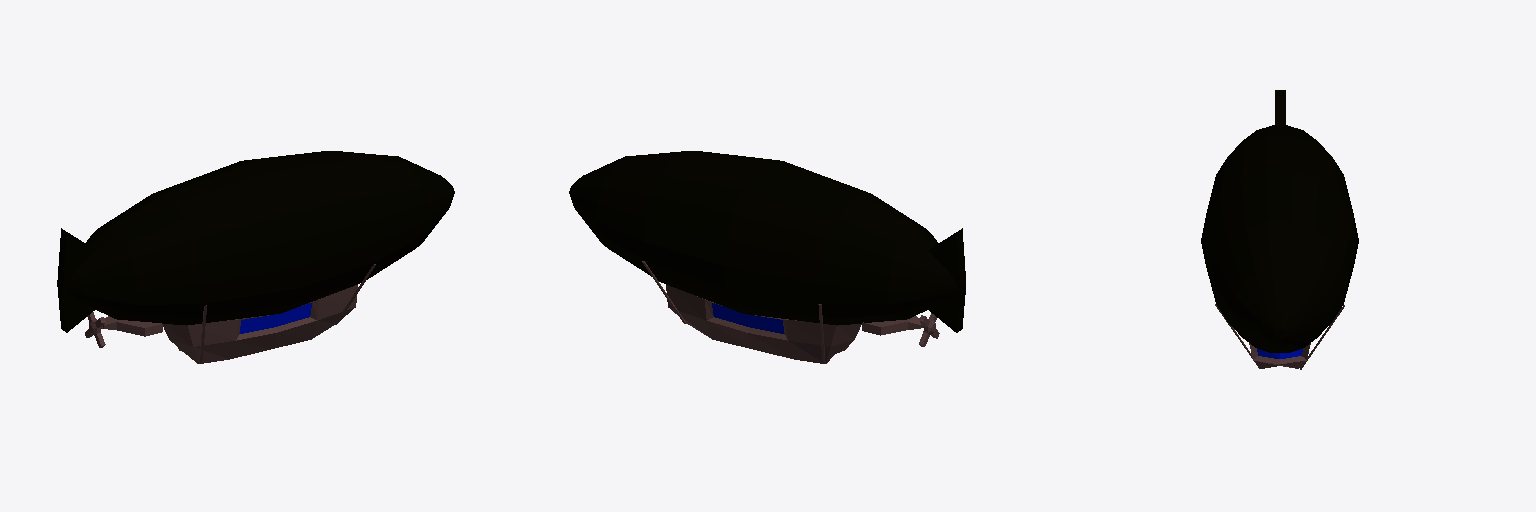
Rendered from blimp_only.obj.
3 renders of one model, left to right at view 1: azimuth 30°, elevation 25°; view 2: azimuth 150°, elevation 25°; view 3: azimuth 270°, elevation 25°, orthographic.
Visible parts, largest first — view 1: blimp_only, fins, motor; view 2: blimp_only, fins, motor; view 3: blimp_only.
Boxes of the visible parts, box(x1,y1,x2,y2) form: blimp_only: box(67, 151, 454, 363); fins: box(57, 228, 95, 332); motor: box(85, 312, 162, 347); blimp_only: box(569, 151, 956, 363); fins: box(928, 228, 965, 332); motor: box(862, 313, 939, 346); blimp_only: box(1201, 125, 1358, 369).
Size of the model in its own units: 13.26 by 5.7 by 4.64.